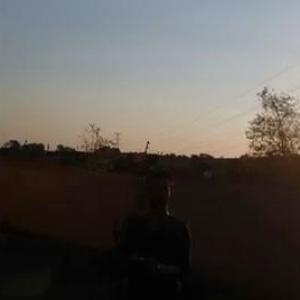follow: (112, 160, 201, 299)
